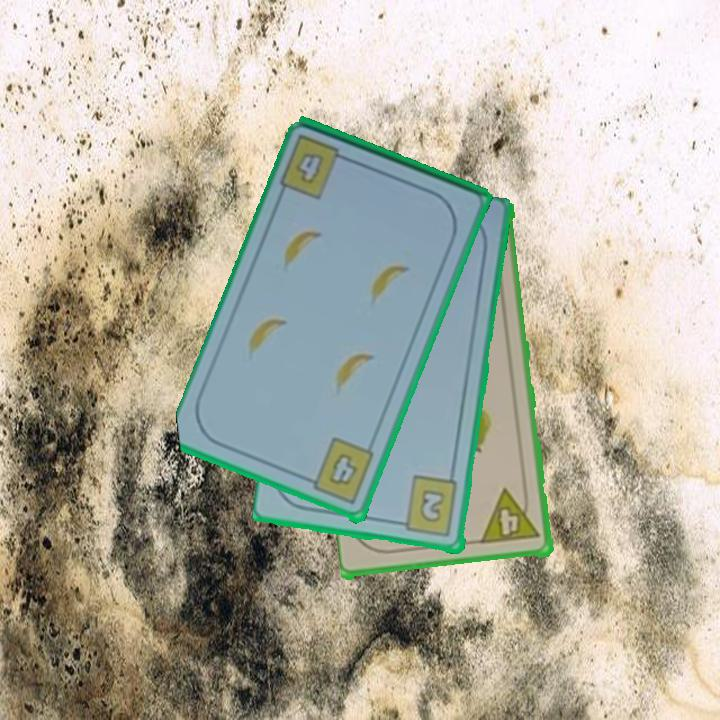2b: (393, 473, 461, 540)
4b: (276, 131, 355, 203), (301, 435, 377, 509)
4p: (478, 485, 544, 547)
